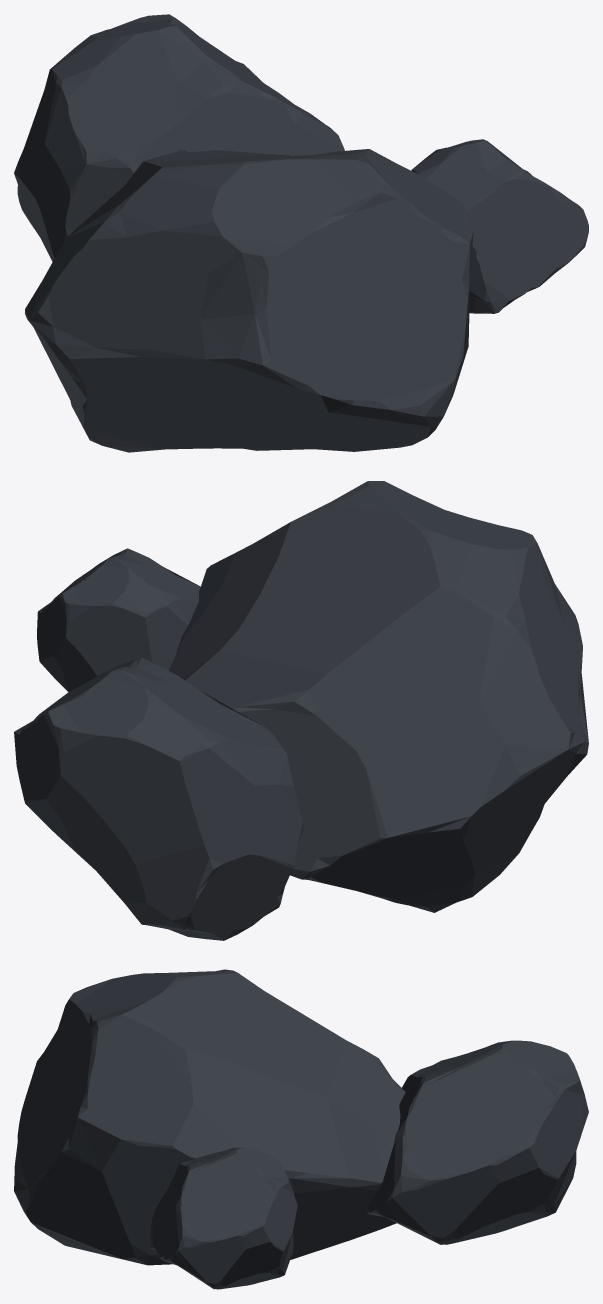
The model's file is Rock_Lowpoly_Matthew.fbx.
3 renders of one model, top to bottom at view 1: azimuth 30°, elevation 25°; view 2: azimuth 150°, elevation 25°; view 3: azimuth 270°, elevation 25°, orthographic. The views are drawn at different scales.
Visible parts, largest first — view 1: Cube, Cube.001, Cube.002; view 2: Cube, Cube.001, Cube.002; view 3: Cube, Cube.001, Cube.002.
Boxes of the visible parts, x1,y1,x2,y2 form: Cube: [25, 149, 473, 452]; Cube.001: [14, 14, 344, 261]; Cube.002: [411, 139, 588, 313]; Cube: [169, 481, 588, 912]; Cube.001: [14, 657, 304, 940]; Cube.002: [37, 548, 200, 692]; Cube: [14, 969, 405, 1265]; Cube.001: [367, 1040, 588, 1244]; Cube.002: [150, 1147, 297, 1289].
Bounding box in the file's own units: 1052 × 611 × 1155.
1 material, 1 textured.
